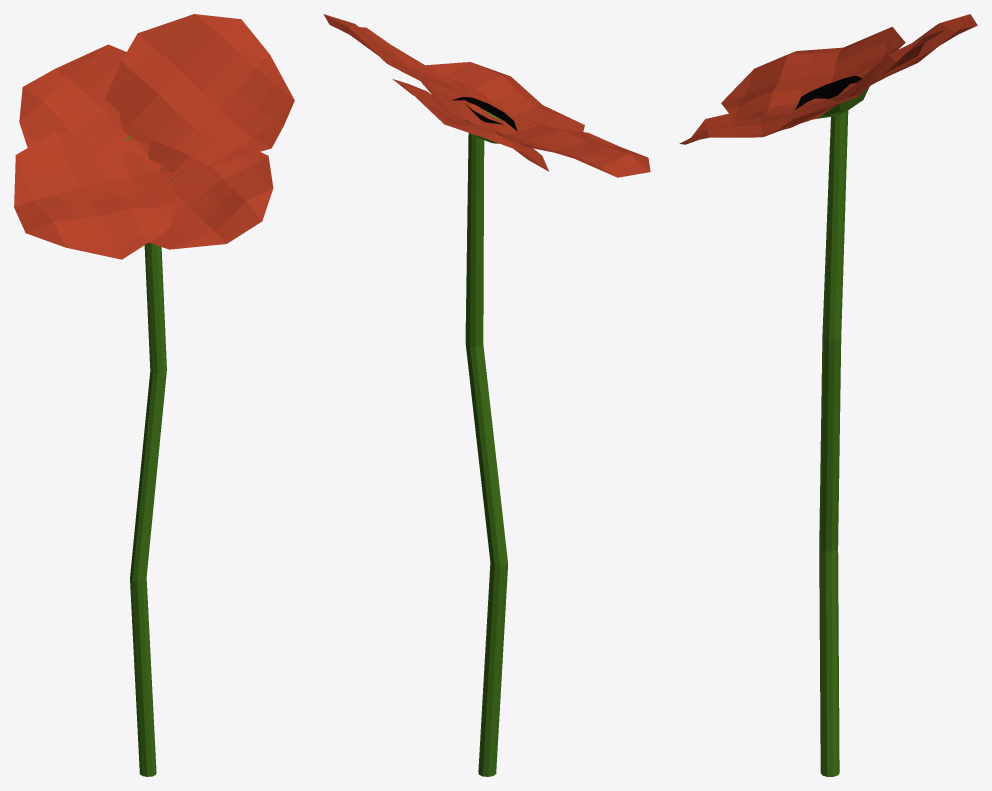
The model's file is Poppy flower.fbx.
The picture shows the model from 3 angles, left to right: view 1: azimuth 30°, elevation 25°; view 2: azimuth 150°, elevation 25°; view 3: azimuth 270°, elevation 25°; orthographic projection. The views are drawn at different scales.
Visible parts, largest first — view 1: Circle.015, Circle.003; view 2: Circle.015, Circle.003; view 3: Circle.003, Circle.015.
Boxes of the visible parts, x1=… form: Circle.015: x1=14, y1=14, x2=294, y2=259; Circle.003: x1=124, y1=135, x2=181, y2=776; Circle.015: x1=323, y1=14, x2=650, y2=177; Circle.003: x1=452, y1=97, x2=517, y2=776; Circle.003: x1=795, y1=75, x2=869, y2=776; Circle.015: x1=679, y1=14, x2=977, y2=144.
Bounding box in the file's own units: 15.51 × 38.47 × 13.3.
